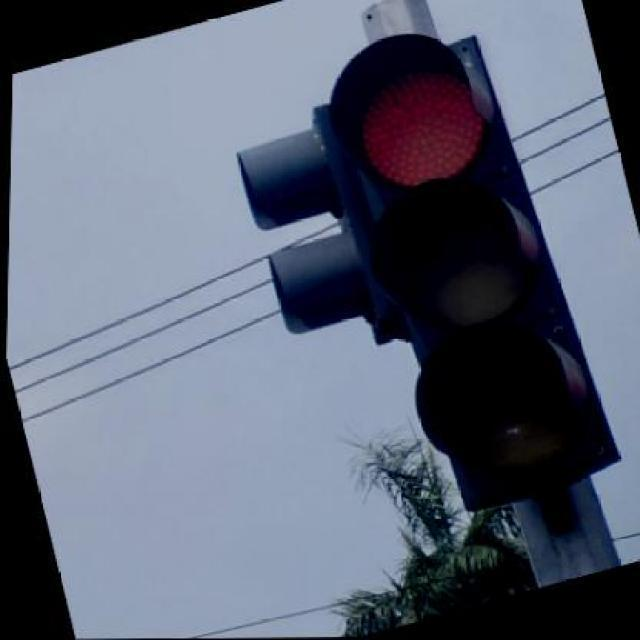red_light: (313, 33, 617, 507)
